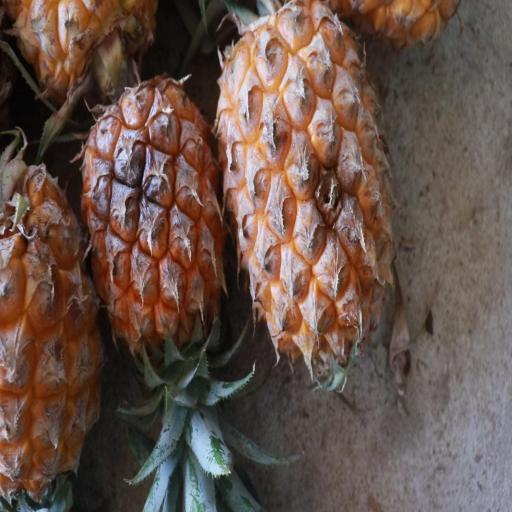Pineapple - v8 v1: (212, 0, 404, 375), (78, 76, 230, 380), (1, 154, 96, 512), (3, 492, 6, 497)
